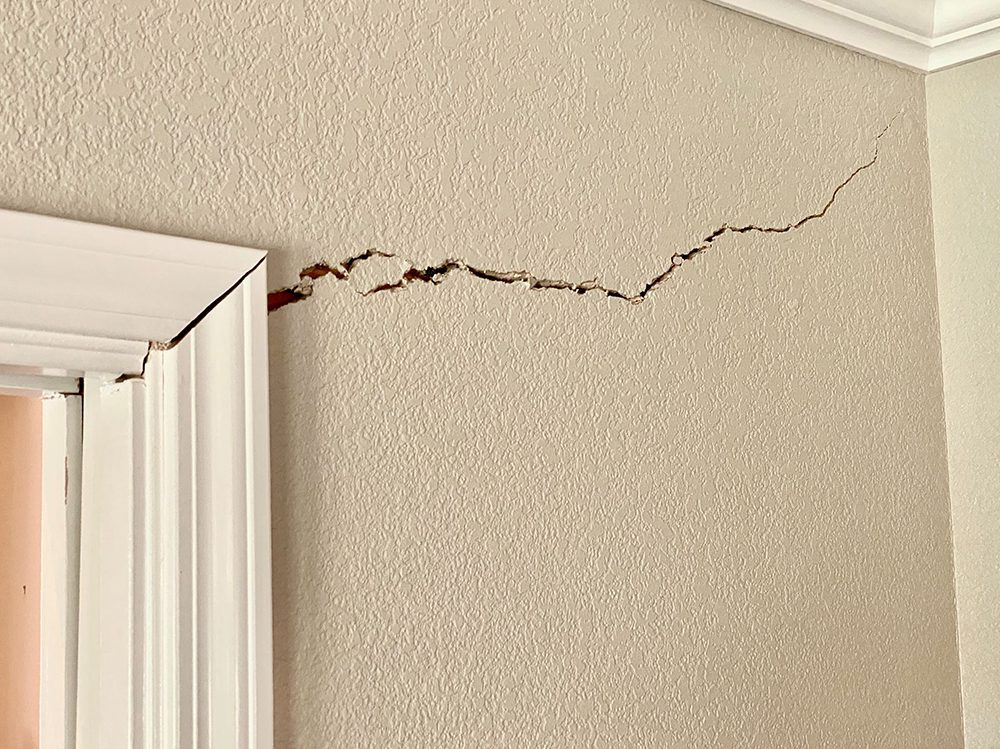crack: (267, 109, 899, 316), (106, 248, 262, 381)
